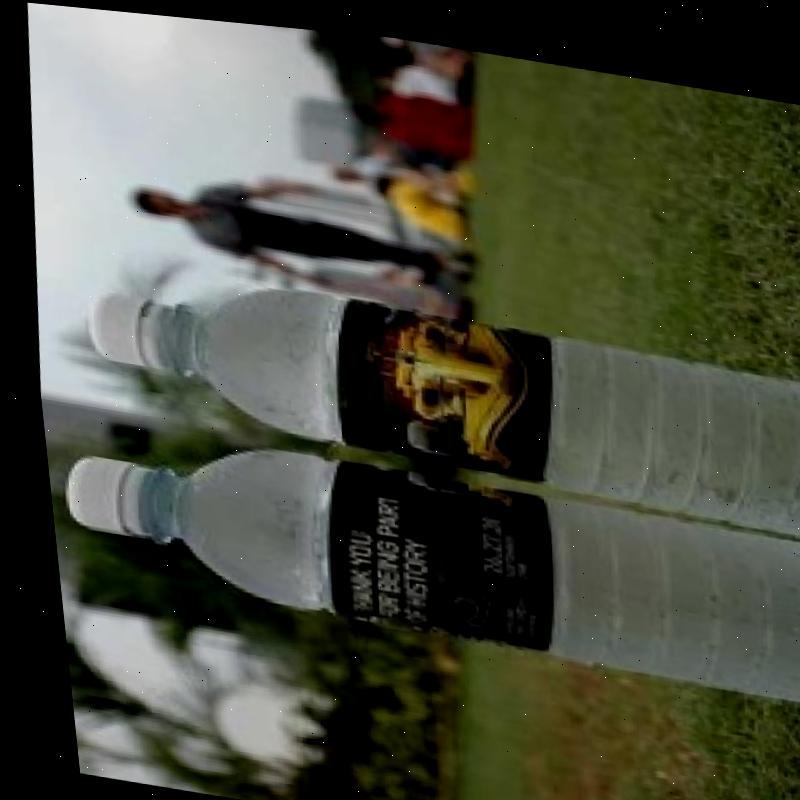botella: (39, 411, 800, 694), (68, 250, 800, 528)
